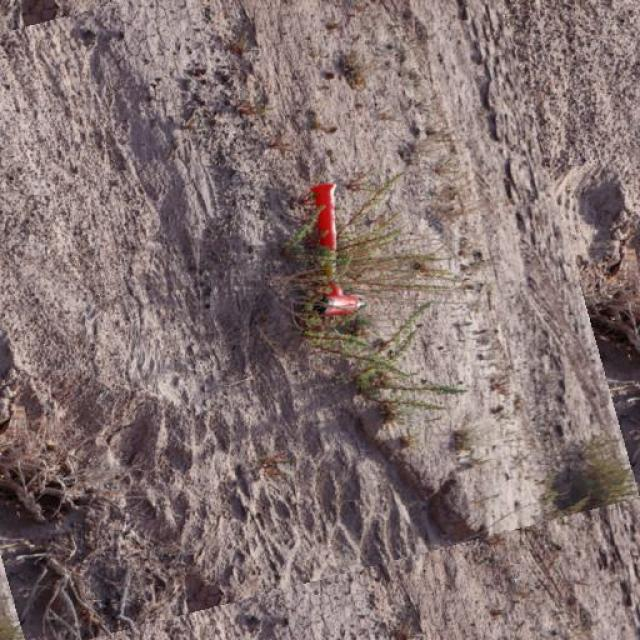mallet: (304, 180, 364, 316)
